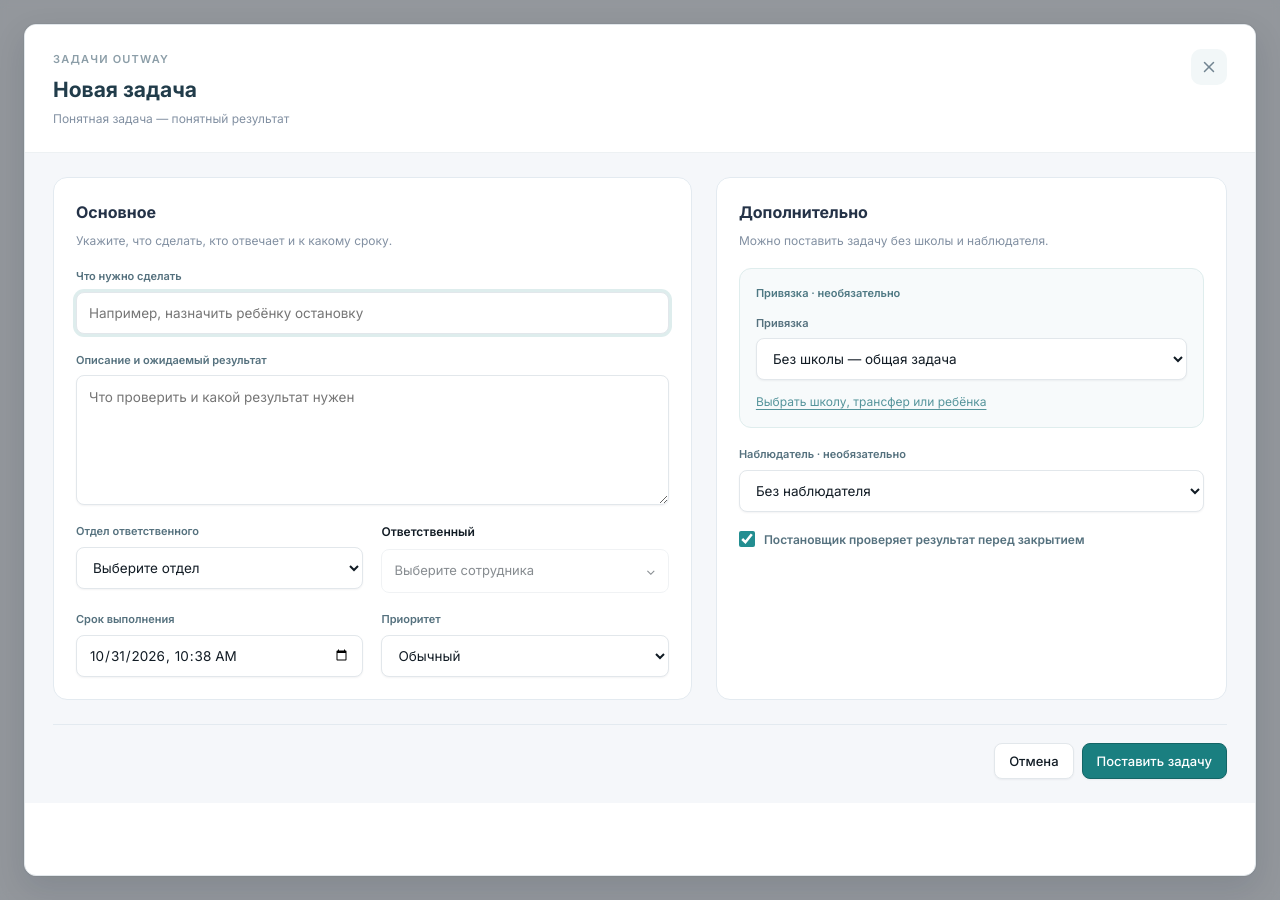
Test: server error leaves draft available
This screenshot has width=1280, height=900.
Click the button "Выбрать школу, трансфер или ребёнка" at (971, 402), box [756, 393, 1187, 411]
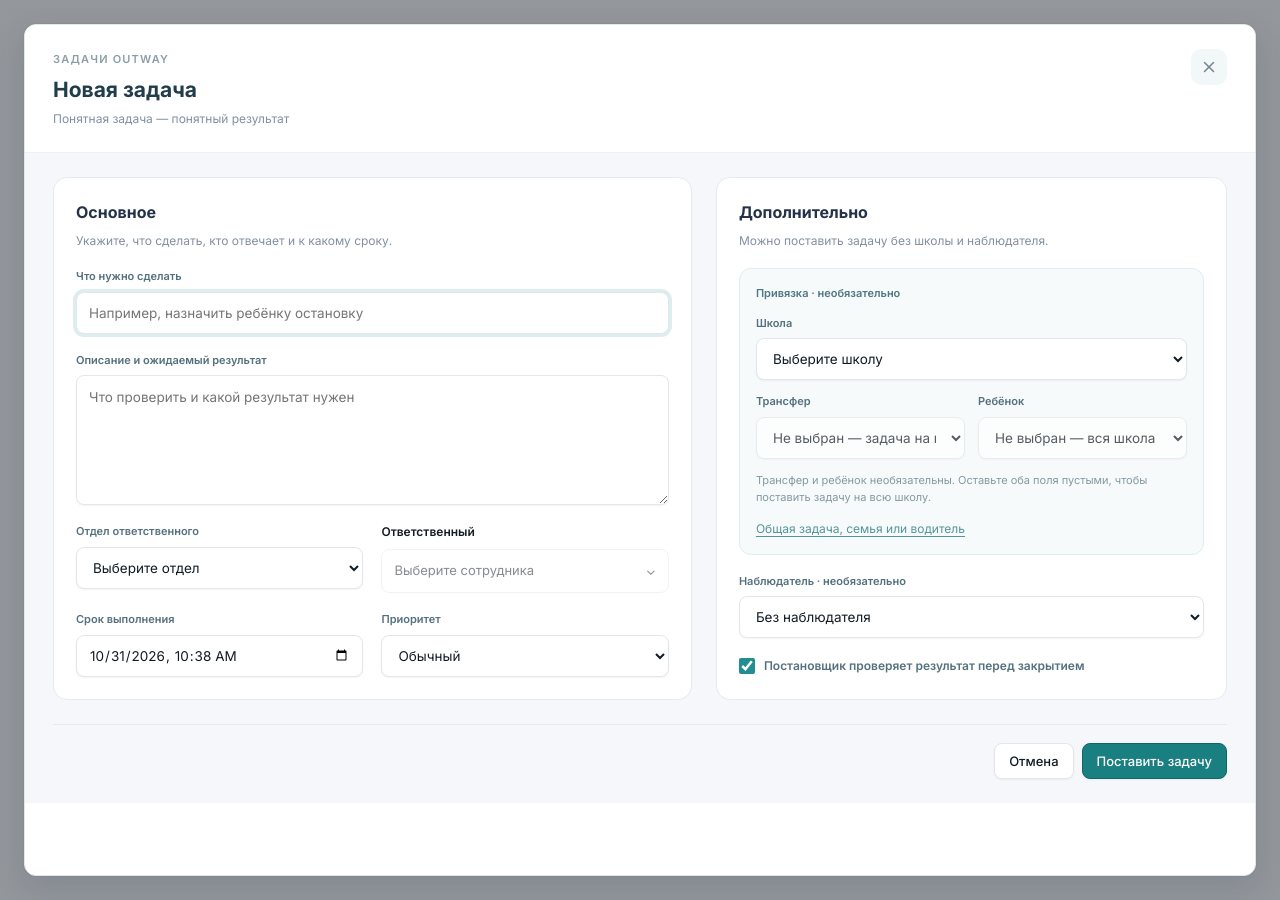
Select "TIS" in the dropdown labelled "Школа" at (971, 359), box [756, 338, 1187, 380]
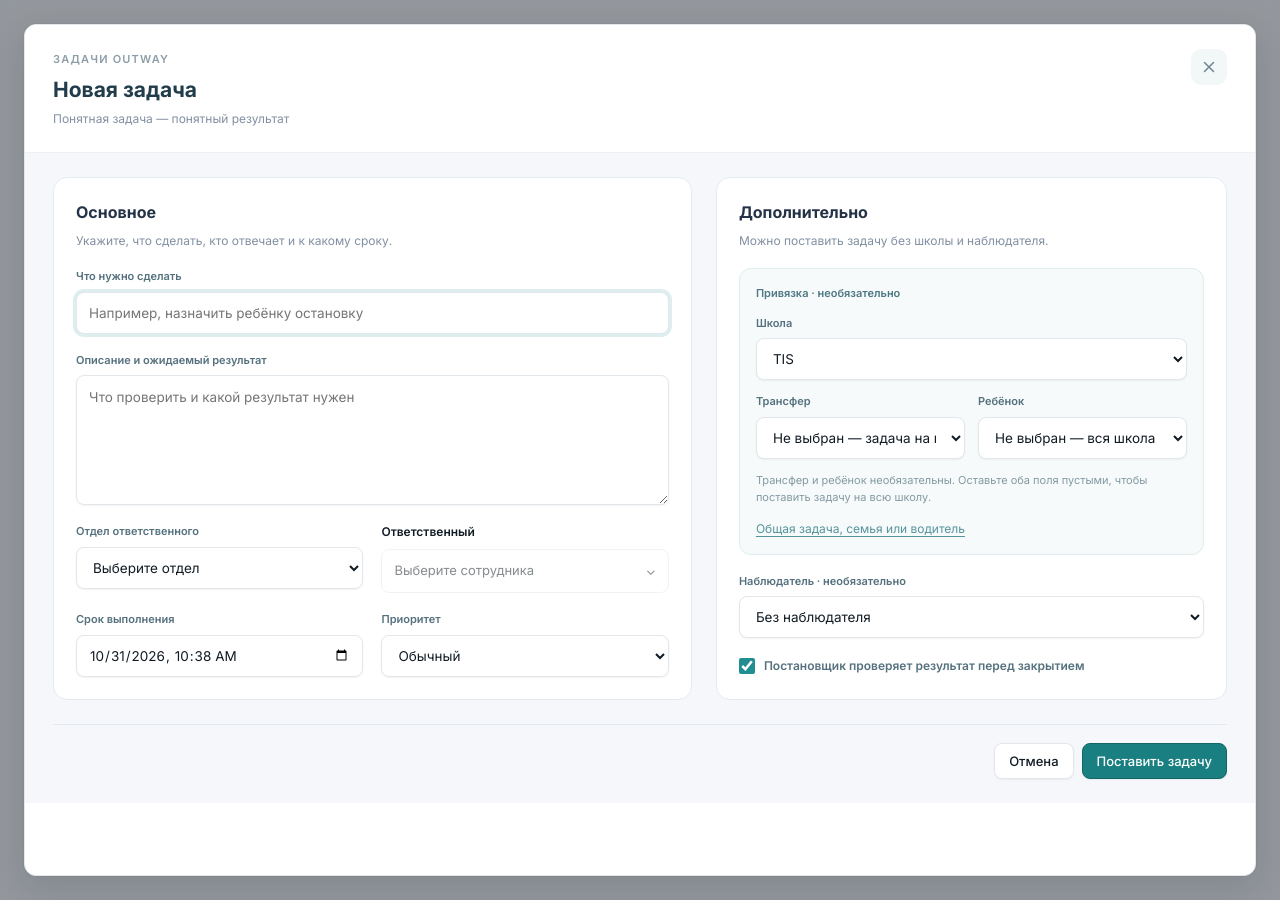
Type "Проверить маршрут" into the field labelled "Что нужно сделать" at (372, 313), box [76, 292, 669, 334]
Select "Логистика" in the dropdown labelled "Отдел ответственного" at (220, 568), box [76, 547, 363, 589]
Click the button with aria-label "Ответственный" at (525, 571), box [381, 549, 669, 593]
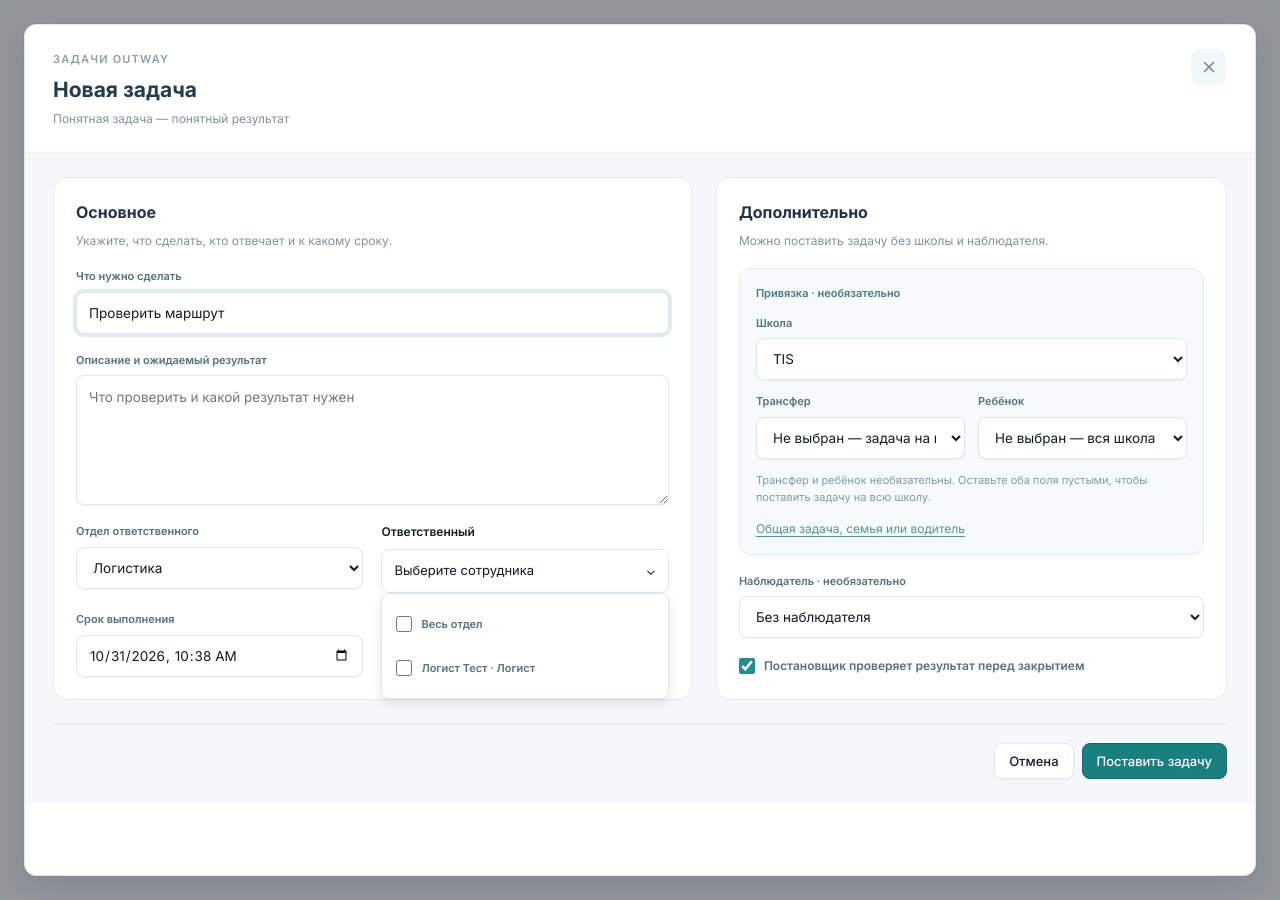
Click the checkbox labelled "Логист Тест · Логист" at (404, 668), box [396, 660, 412, 676]
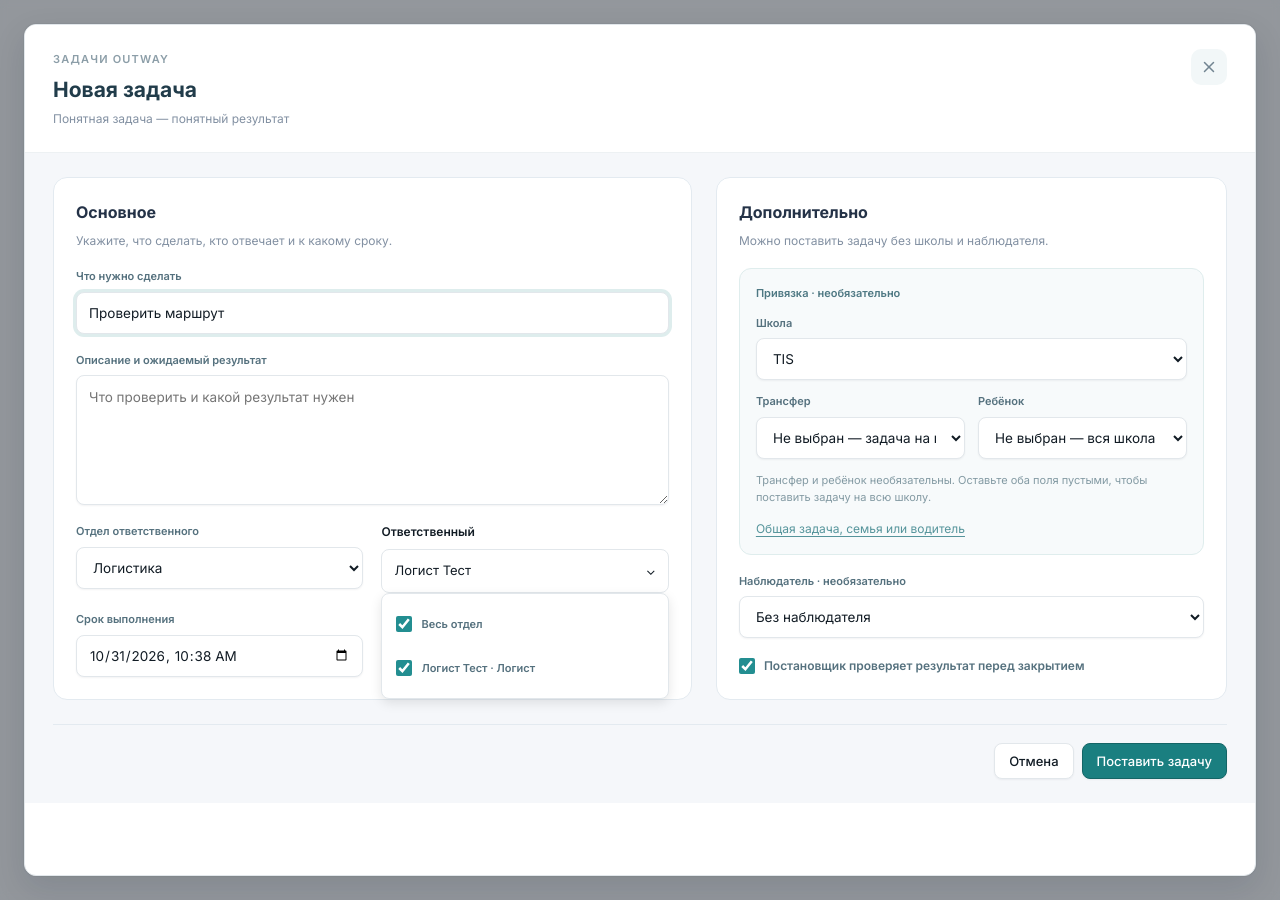
Select "Гендиректор Тест" in the dropdown labelled "Наблюдатель" at (971, 617), box [739, 596, 1204, 638]
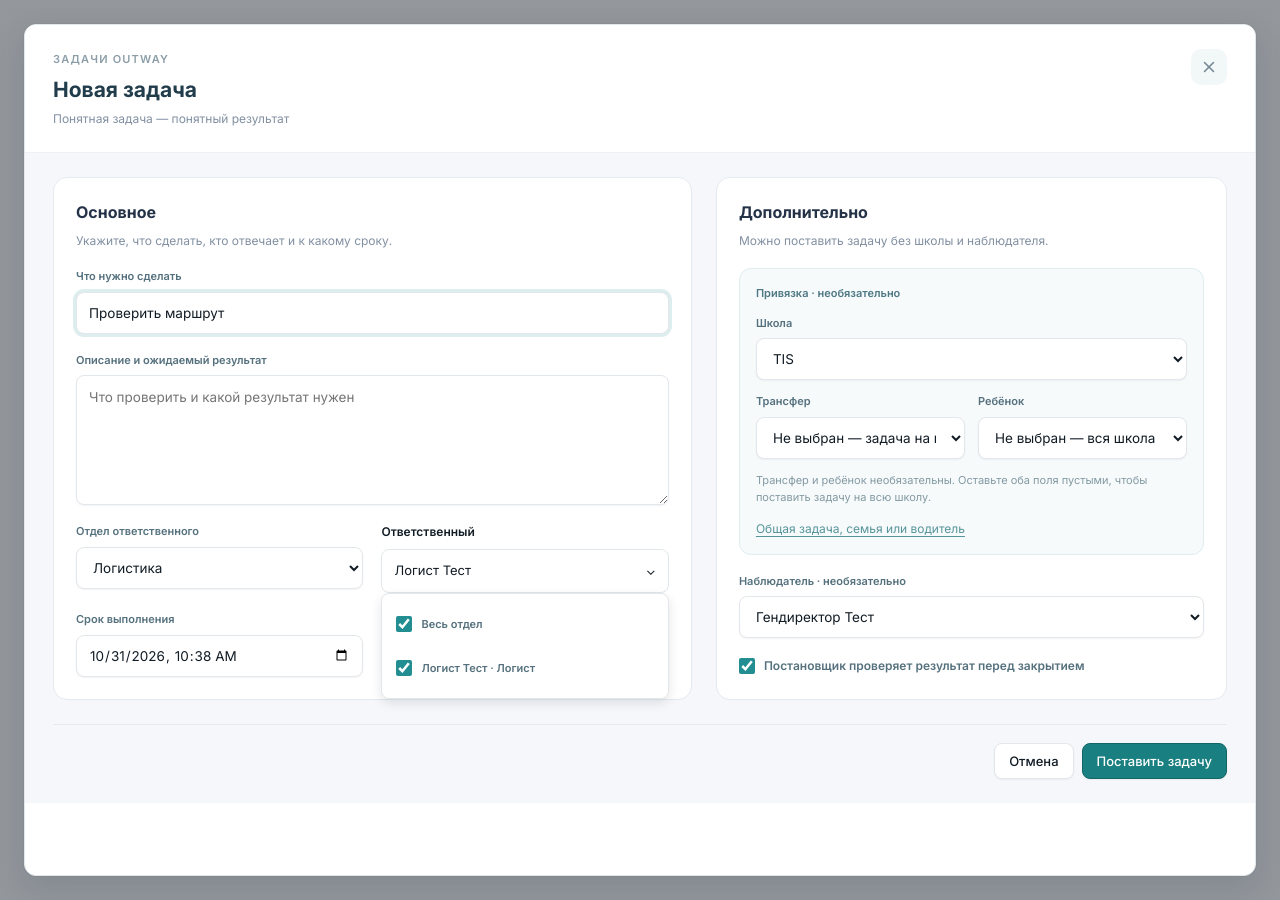
Click the button "Поставить задачу" at (1154, 761), box [1082, 743, 1227, 779]
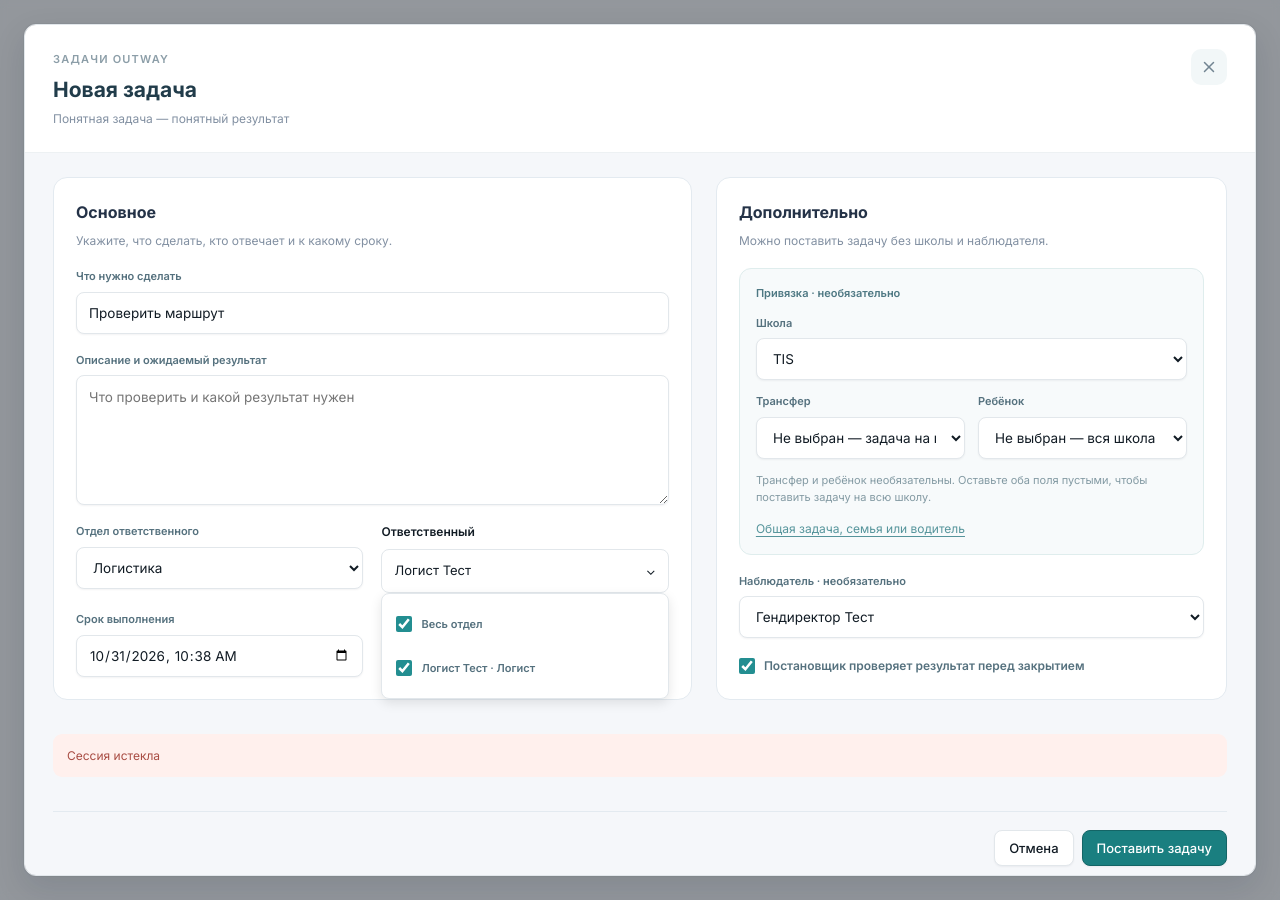
Expected: the message reads "Сессия истекла", [67, 748, 160, 763]
